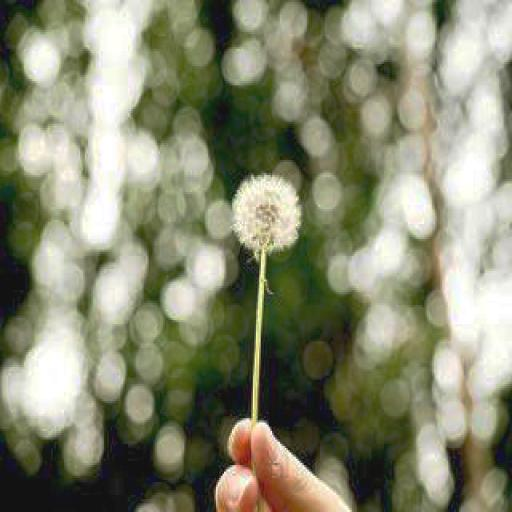dandelion: (234, 170, 302, 252)
